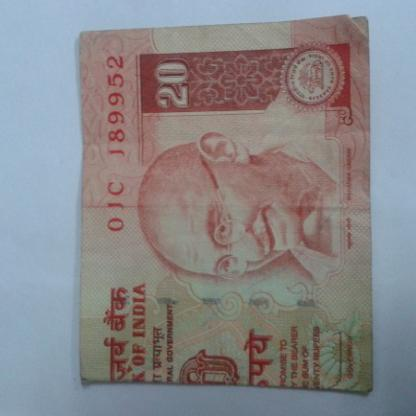Old20Front: (76, 27, 372, 391)
